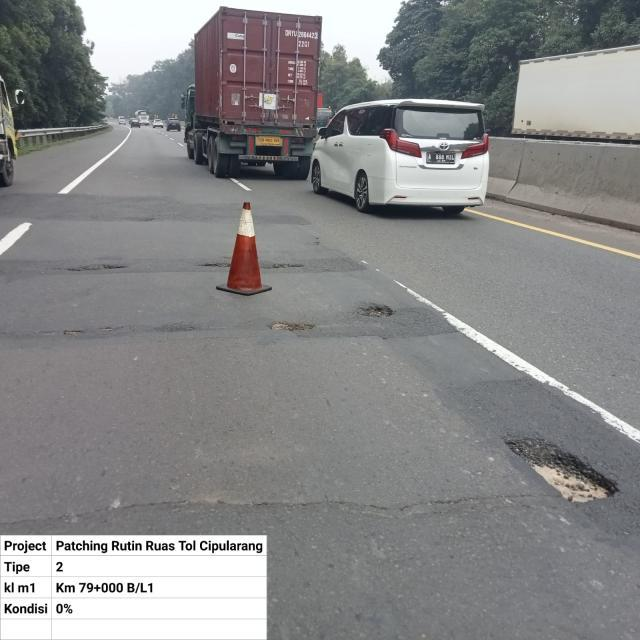Buraco: (499, 434, 624, 506), (62, 262, 129, 274), (267, 320, 317, 334), (355, 304, 396, 319), (269, 261, 307, 271), (198, 260, 232, 270)
